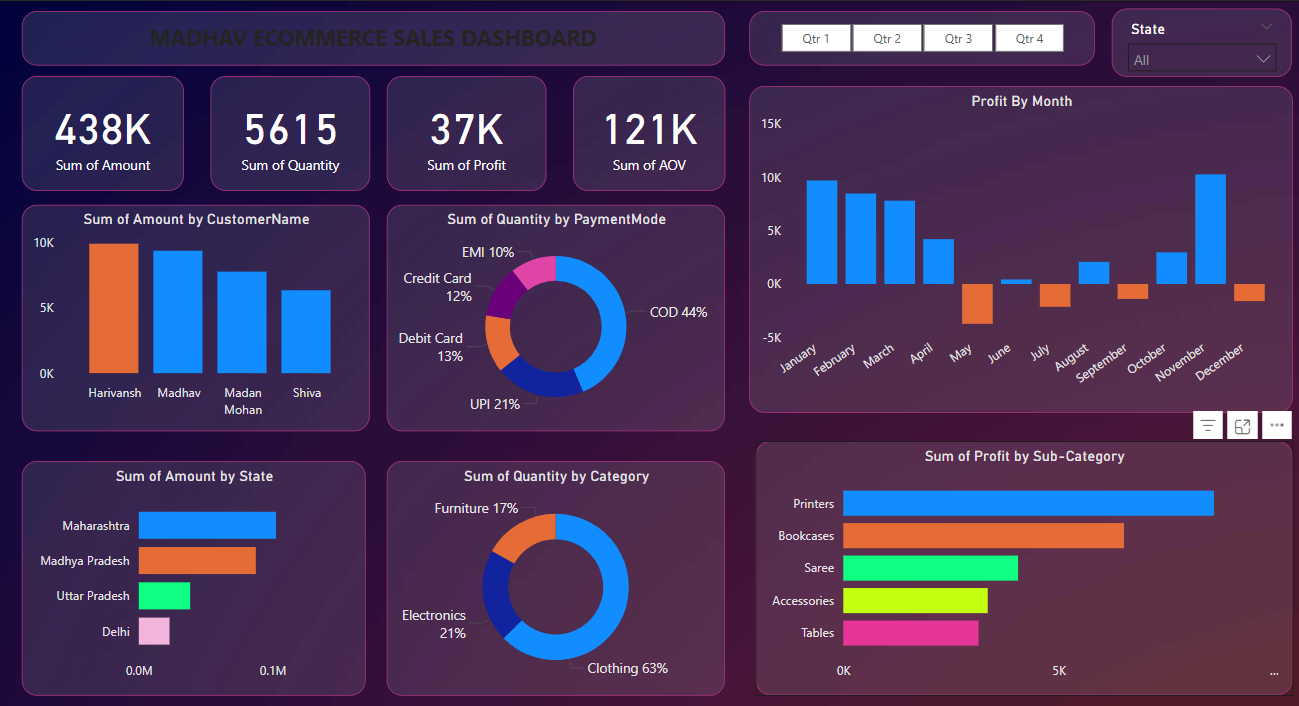

This screenshot's page, from the dashboard's own definition file:
{"tool":"powerbi","page":{"name":"Page 1","canvas":[1280,720],"ordinal":0},"visuals":[{"type":"textbox","box":[23.3,9.6,690.2,53.5],"z":0},{"type":"columnChart","title":"Profit By Month","fields":{"Category":["Orders.Order Date.Variation.Date Hierarchy.Month"],"Y":["Sum(Details.Profit)"]},"box":[736.9,83.7,533.8,321.1],"z":1000},{"type":"barChart","fields":{"Category":["Details.Sub-Category"],"Y":["Sum(Details.Profit)"]},"box":[743.7,432.2,526.9,249.7],"z":2000},{"type":"donutChart","fields":{"Category":["Details.Category"],"Y":["Sum(Details.Quantity)"]},"box":[381.5,451.5,332.1,230.5],"z":3000},{"type":"donutChart","fields":{"Y":["Sum(Details.Quantity)"],"Category":["Details.PaymentMode"]},"box":[381.5,200.3,332.1,222.3],"z":4000},{"type":"card","fields":{"Values":["Sum(Details.Amount)"]},"box":[23.3,74.1,159.2,112.5],"z":5000},{"type":"card","fields":{"Values":["Sum(Details.Quantity)"]},"box":[208.6,74.1,156.4,112.5],"z":6000},{"type":"card","fields":{"Values":["Sum(Details.Profit)"]},"box":[381.5,74.1,156.4,112.5],"z":7000},{"type":"card","fields":{"Values":["Sum(Details.AOV)"]},"box":[564,74.1,149.6,112.5],"z":8000},{"type":"barChart","fields":{"Category":["Orders.State"],"Y":["Sum(Details.Amount)"]},"box":[23.3,451.5,337.6,230.5],"z":9000},{"type":"columnChart","fields":{"Category":["Orders.CustomerName"],"Y":["Sum(Details.Amount)"]},"box":[23.3,200.3,341.7,222.3],"z":10000},{"type":"slicer","fields":{"Values":["Orders.Order Date.Variation.Date Hierarchy.Quarter"]},"box":[736.9,9.6,338.9,53.5],"z":11000},{"type":"slicer","fields":{"Values":["Orders.State"]},"box":[1093.7,6.9,177,67.2],"z":12000}]}

Visuals, with their boxes on the page's 1280x720 design canvas (x1, y1, x2, y2). These are canvas units, not pixel positions in the 1299x706 screenshot, which may show the page scaled, cropped or inside an application window:
textbox: {"x1": 23, "y1": 10, "x2": 714, "y2": 63}
"Profit By Month" columnChart: {"x1": 737, "y1": 84, "x2": 1271, "y2": 405}
barChart - Details.Sub-Category x Sum(Details.Profit): {"x1": 744, "y1": 432, "x2": 1271, "y2": 682}
donutChart - Details.Category x Sum(Details.Quantity): {"x1": 382, "y1": 452, "x2": 714, "y2": 682}
donutChart - Sum(Details.Quantity) x Details.PaymentMode: {"x1": 382, "y1": 200, "x2": 714, "y2": 423}
card - Sum(Details.Amount): {"x1": 23, "y1": 74, "x2": 182, "y2": 187}
card - Sum(Details.Quantity): {"x1": 209, "y1": 74, "x2": 365, "y2": 187}
card - Sum(Details.Profit): {"x1": 382, "y1": 74, "x2": 538, "y2": 187}
card - Sum(Details.AOV): {"x1": 564, "y1": 74, "x2": 714, "y2": 187}
barChart - Orders.State x Sum(Details.Amount): {"x1": 23, "y1": 452, "x2": 361, "y2": 682}
columnChart - Orders.CustomerName x Sum(Details.Amount): {"x1": 23, "y1": 200, "x2": 365, "y2": 423}
slicer - Orders.Order Date.Variation.Date Hierarchy.Quarter: {"x1": 737, "y1": 10, "x2": 1076, "y2": 63}
slicer - Orders.State: {"x1": 1094, "y1": 7, "x2": 1271, "y2": 74}
